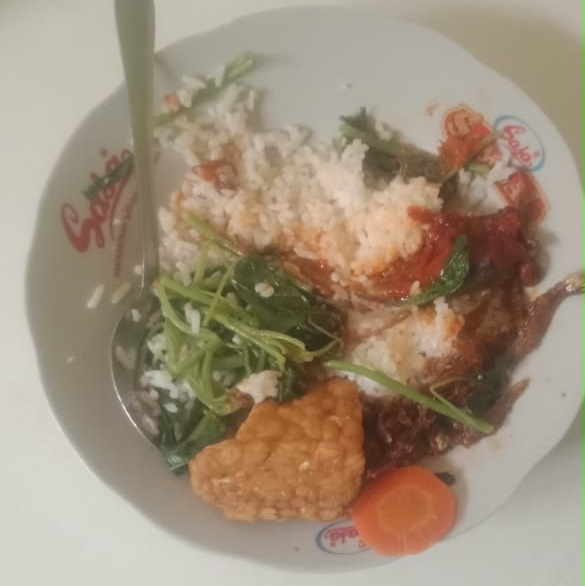Nasi: (179, 129, 365, 236)
Sayur_bayam: (149, 264, 369, 377)
Tempe: (190, 392, 368, 523)
Teri: (455, 200, 568, 367)
